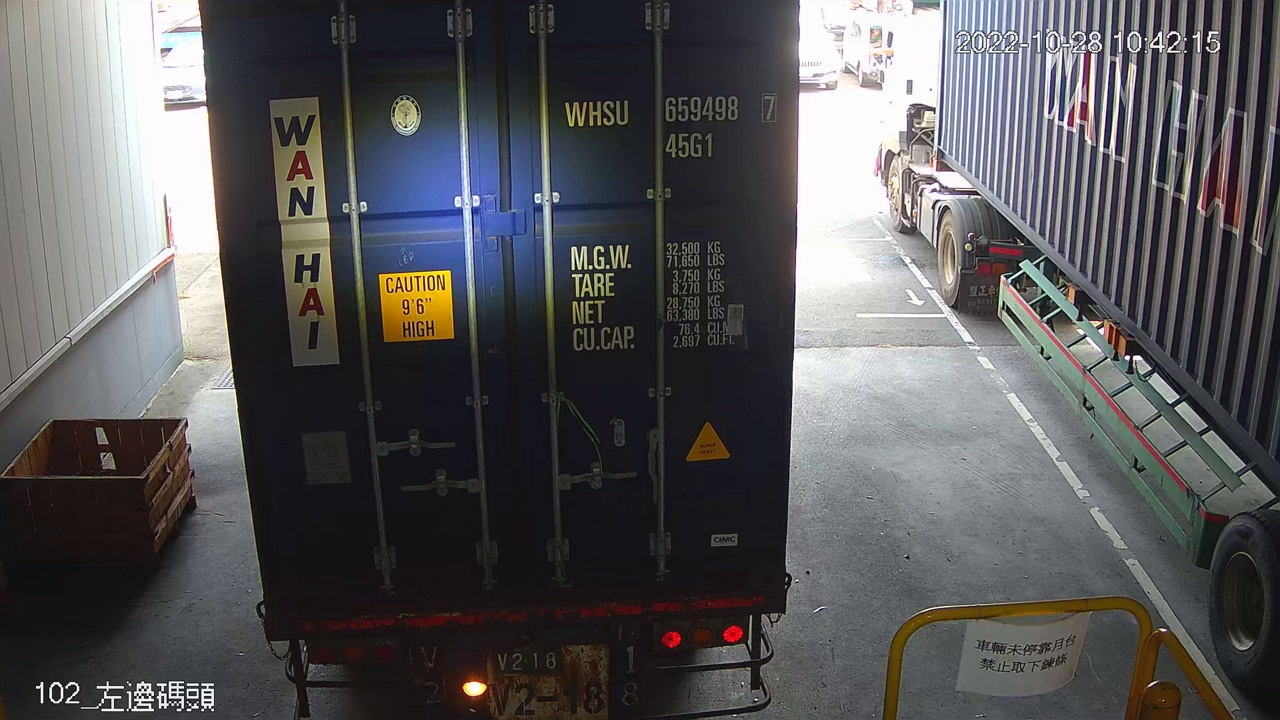container: (557, 87, 782, 167)
